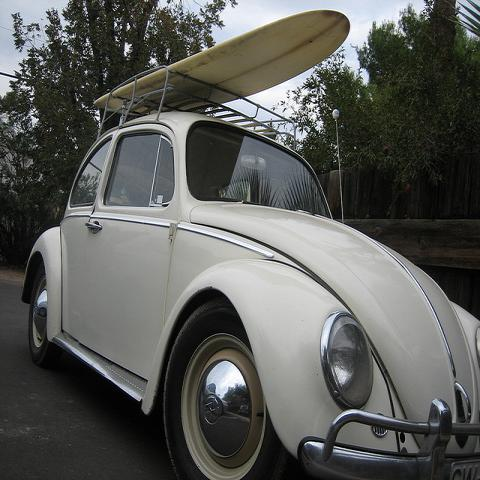car: (23, 72, 479, 434)
